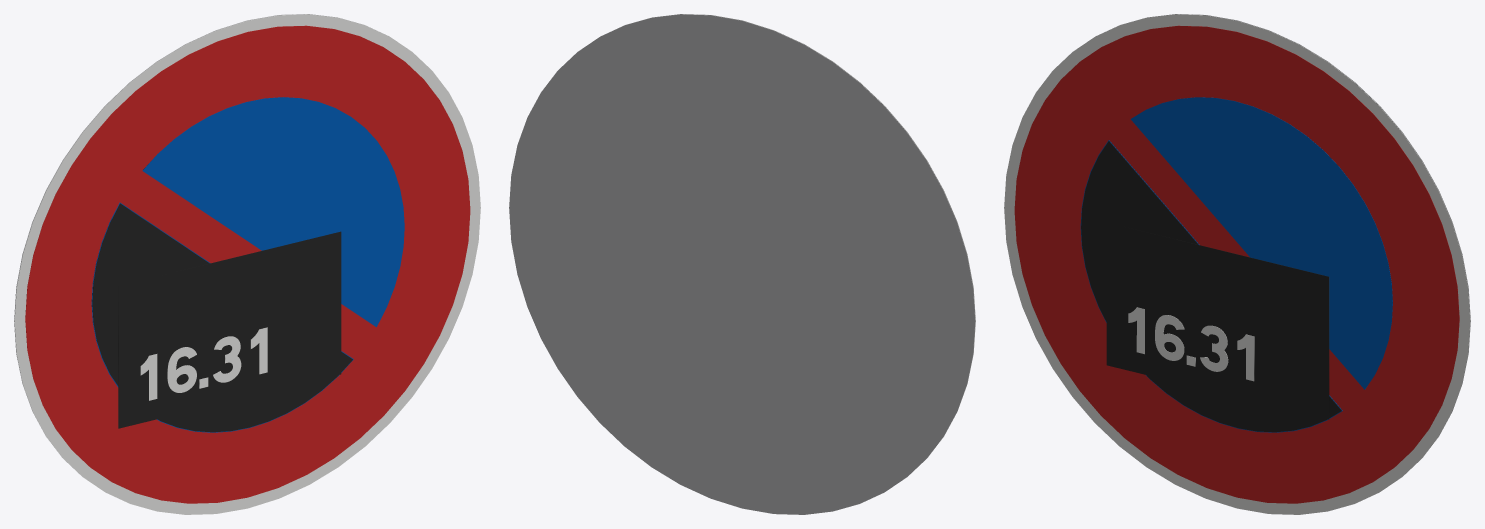
The picture shows the model from 3 angles, left to right: view 1: azimuth 30°, elevation 25°; view 2: azimuth 150°, elevation 25°; view 3: azimuth 330°, elevation 25°; orthographic projection.
Parts seen in each view (by area): view 1: B6a3_p01, B6a3_p05, B6a3_p06, B6a3_p00, B6a3_p03, B6a3_p08, B6a3_p10, B6a3_dos, B6a3_p02; view 2: B6a3_dos, B6a3_p00; view 3: B6a3_p01, B6a3_p05, B6a3_p06, B6a3_p00, B6a3_p03, B6a3_p08, B6a3_p10, B6a3_dos, B6a3_p02.
Part boxes in pixels (left/top/right/bottom): B6a3_p01: left=25, top=25, right=470, bottom=503; B6a3_p05: left=142, top=97, right=404, bottom=326; B6a3_p06: left=118, top=231, right=341, bottom=428; B6a3_p00: left=14, top=14, right=480, bottom=514; B6a3_p03: left=92, top=203, right=352, bottom=432; B6a3_p08: left=167, top=347, right=196, bottom=392; B6a3_p10: left=213, top=336, right=241, bottom=382; B6a3_dos: left=14, top=14, right=385, bottom=473; B6a3_p02: left=91, top=202, right=353, bottom=432; B6a3_dos: left=509, top=14, right=975, bottom=514; B6a3_p00: left=604, top=14, right=975, bottom=473; B6a3_p01: left=1014, top=25, right=1459, bottom=503; B6a3_p05: left=1130, top=97, right=1392, bottom=389; B6a3_p06: left=1106, top=222, right=1329, bottom=419; B6a3_p00: left=1004, top=14, right=1470, bottom=514; B6a3_p03: left=1081, top=141, right=1341, bottom=432; B6a3_p08: left=1155, top=315, right=1184, bottom=360; B6a3_p10: left=1200, top=325, right=1228, bottom=371; B6a3_dos: left=1099, top=14, right=1470, bottom=473; B6a3_p02: left=1080, top=140, right=1342, bottom=432.
Bounding box in the file's own units: 0.85 × 0.8498 × 0.0063.
